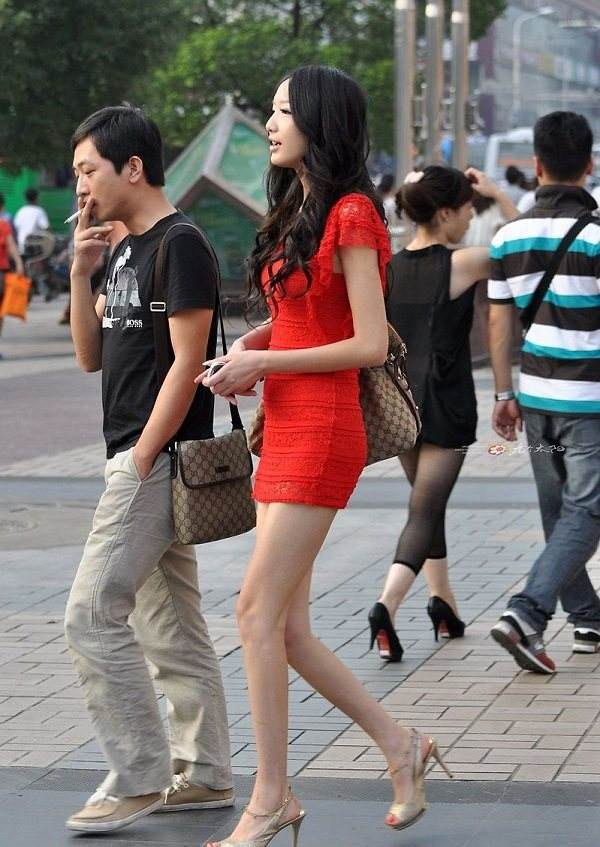person: (211, 58, 421, 805), (54, 99, 196, 630)
